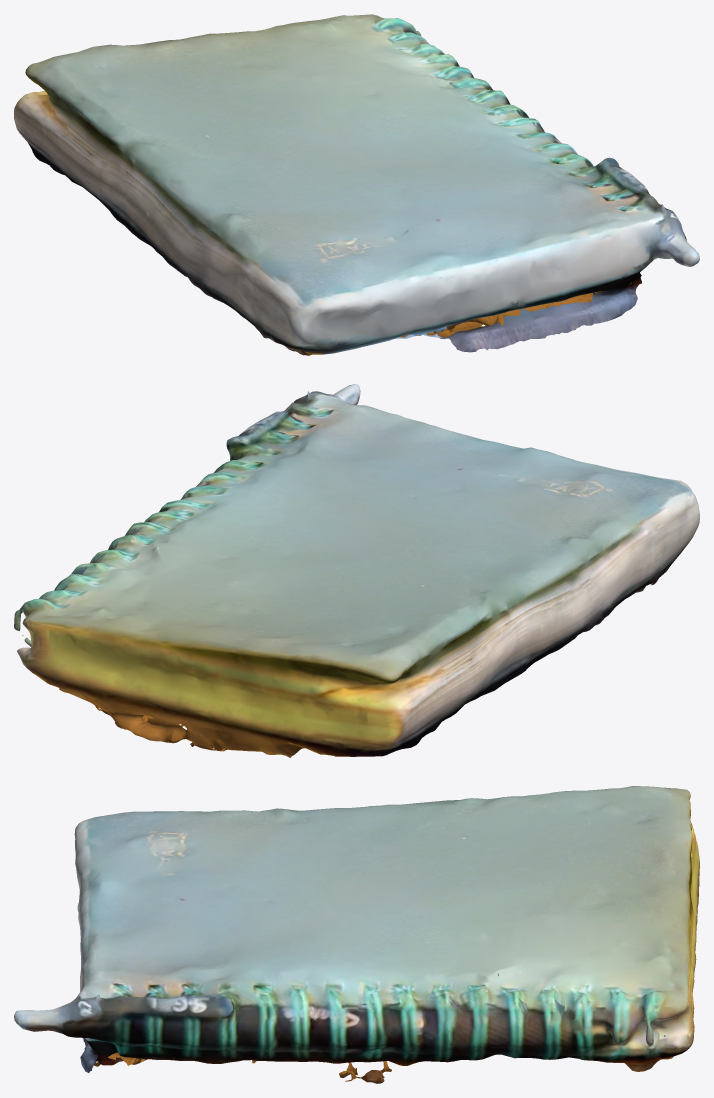
Rendered from mesh_lowpoly.obj.
The picture shows the model from 3 angles, top to bottom: view 1: azimuth 30°, elevation 25°; view 2: azimuth 150°, elevation 25°; view 3: azimuth 270°, elevation 25°; orthographic projection. The views are drawn at different scales.
Visible parts, largest first — view 1: mesh_lowpoly; view 2: mesh_lowpoly; view 3: mesh_lowpoly.
Boxes of the visible parts, bbox=[...] form: mesh_lowpoly: bbox=[14, 14, 699, 355]; mesh_lowpoly: bbox=[14, 384, 699, 757]; mesh_lowpoly: bbox=[14, 786, 699, 1083].
Bounding box in the file's own units: 1.05 × 0.3722 × 1.51.
Materials: 4 (4 with a texture image).
